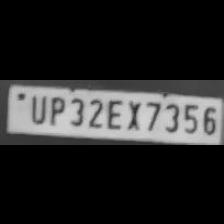2: (85, 96, 103, 128)
3: (66, 93, 84, 127), (162, 99, 180, 133)
5: (180, 100, 198, 134)
6: (200, 102, 218, 134)
7: (141, 98, 161, 132)
E: (104, 97, 122, 129)
P: (45, 93, 65, 125)
U: (26, 92, 46, 124)
X: (124, 97, 142, 131)
